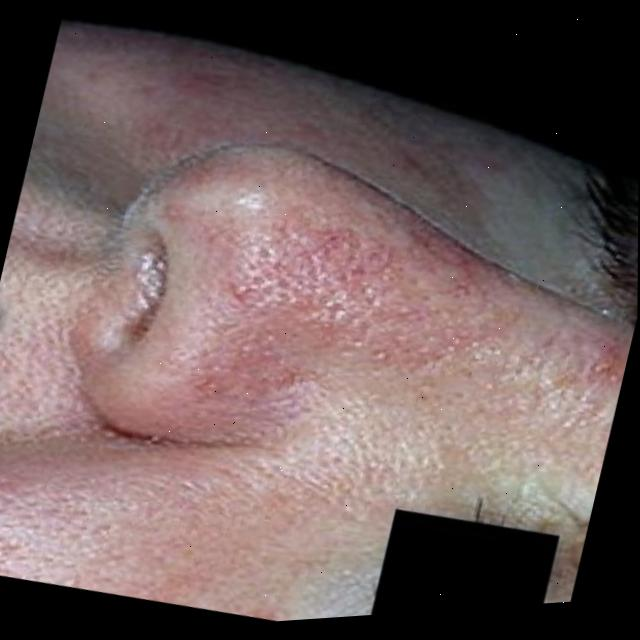Rosacea: (177, 143, 639, 513)
